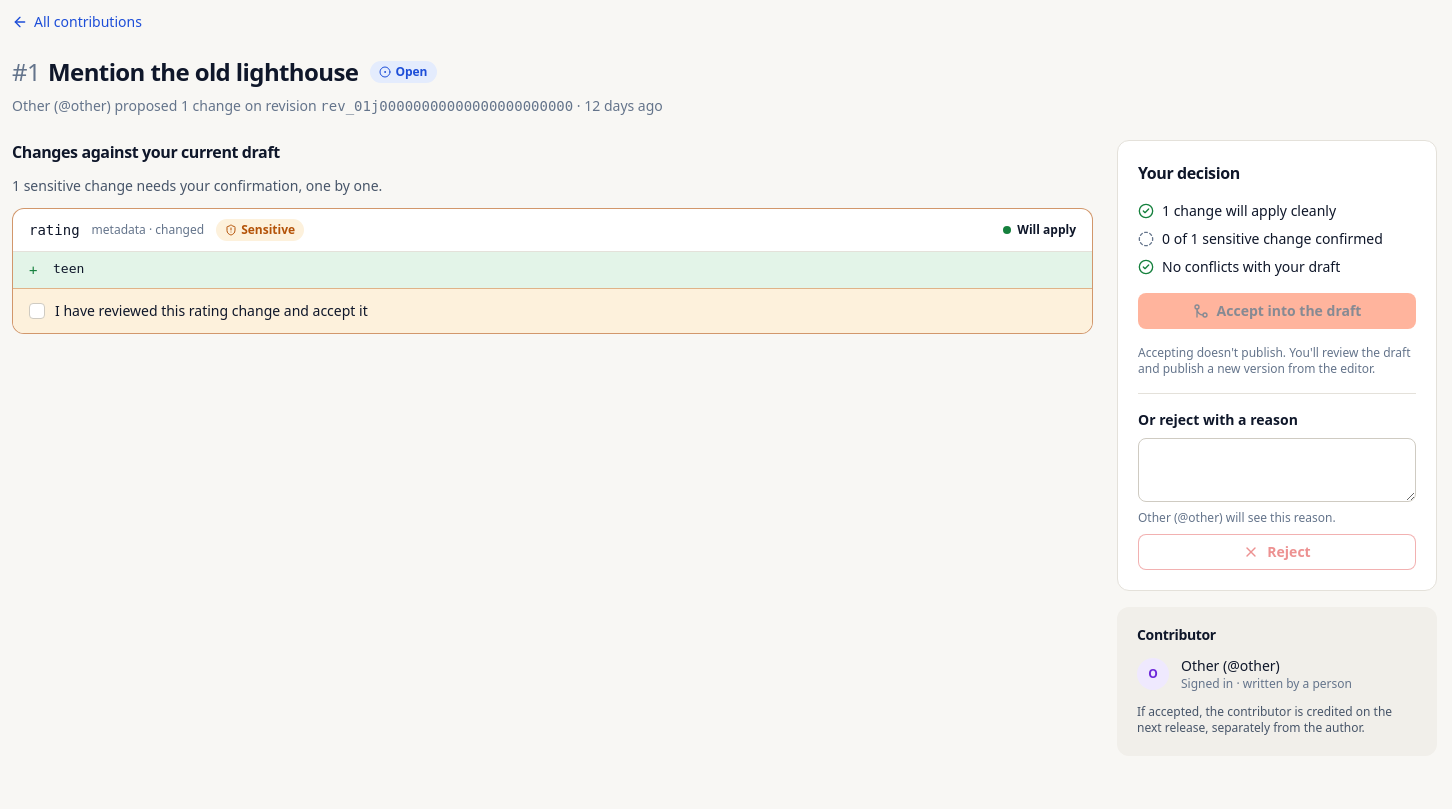
Scenario: ContributionReview › accepts only after each sensitive change is confirmed, and sends only those keys
The image size is (1452, 809).
Expected: the button "Accept into the draft" is disabled, [1138,293,1416,329]
Click the checkbox named "I have reviewed this rating change and accept it" at (37, 311), box [29,303,45,319]
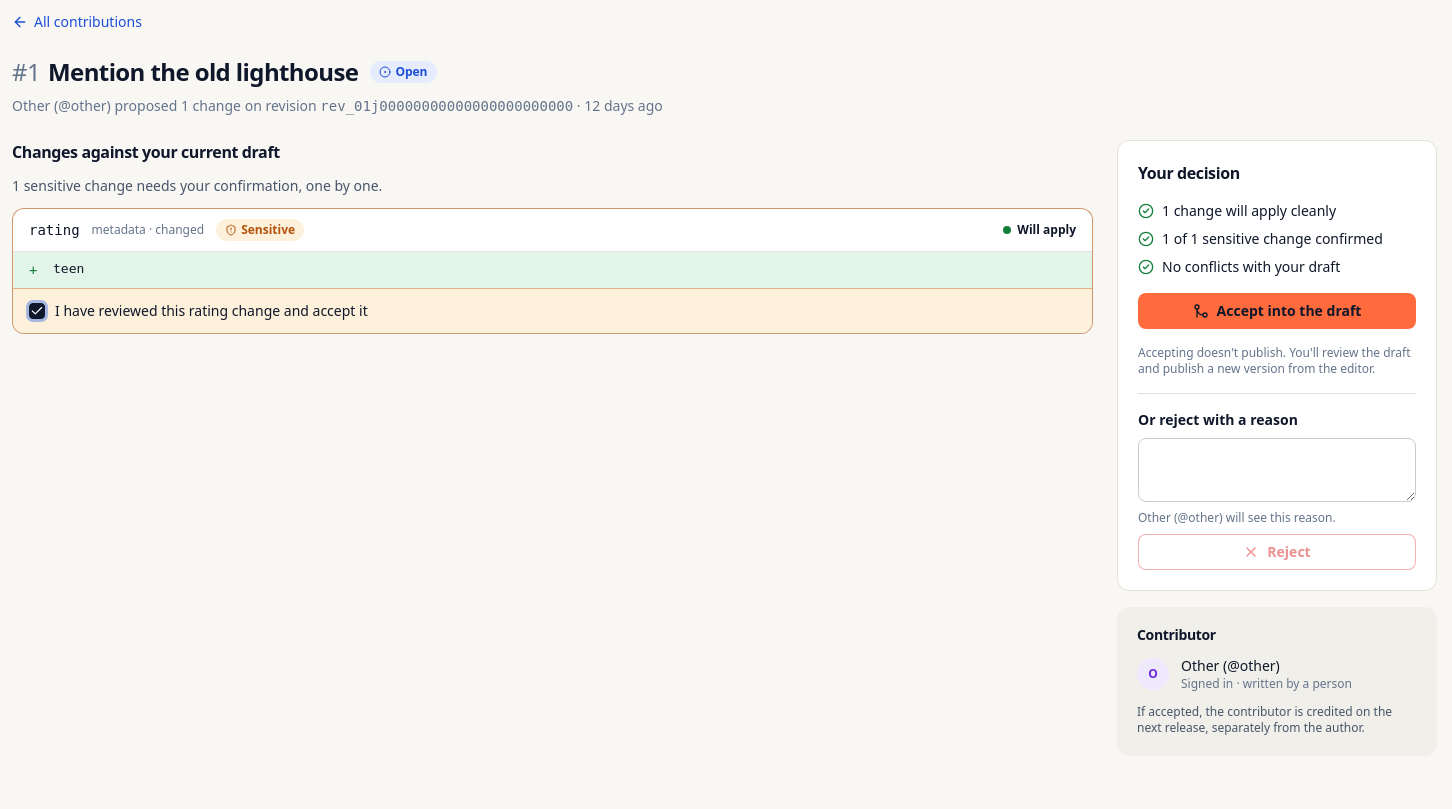
Result: the button "Accept into the draft" is enabled
Click the button "Accept into the draft" at (1277, 311), box [1138,293,1416,329]
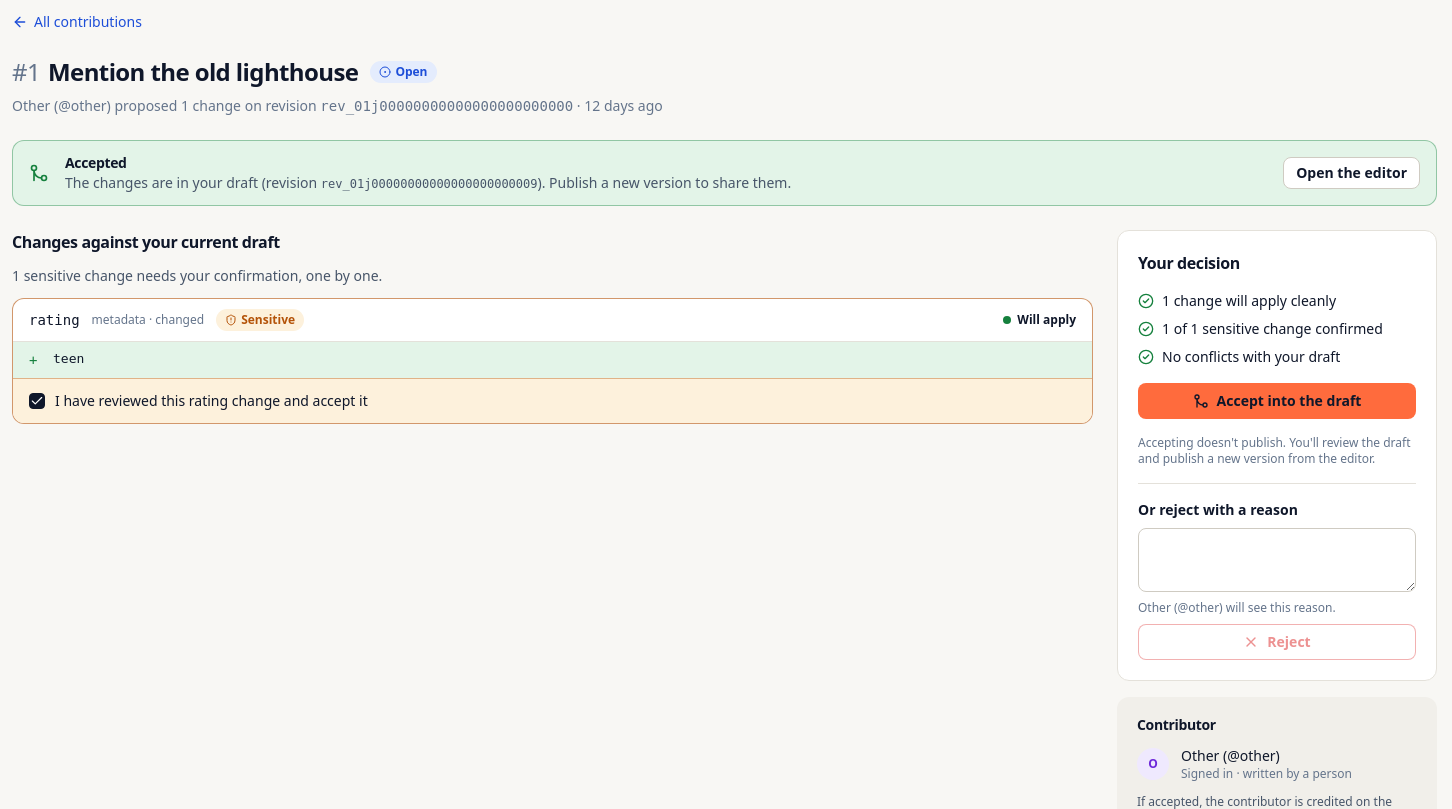
Result: the heading "Accepted" is shown at [65,153,127,172]
